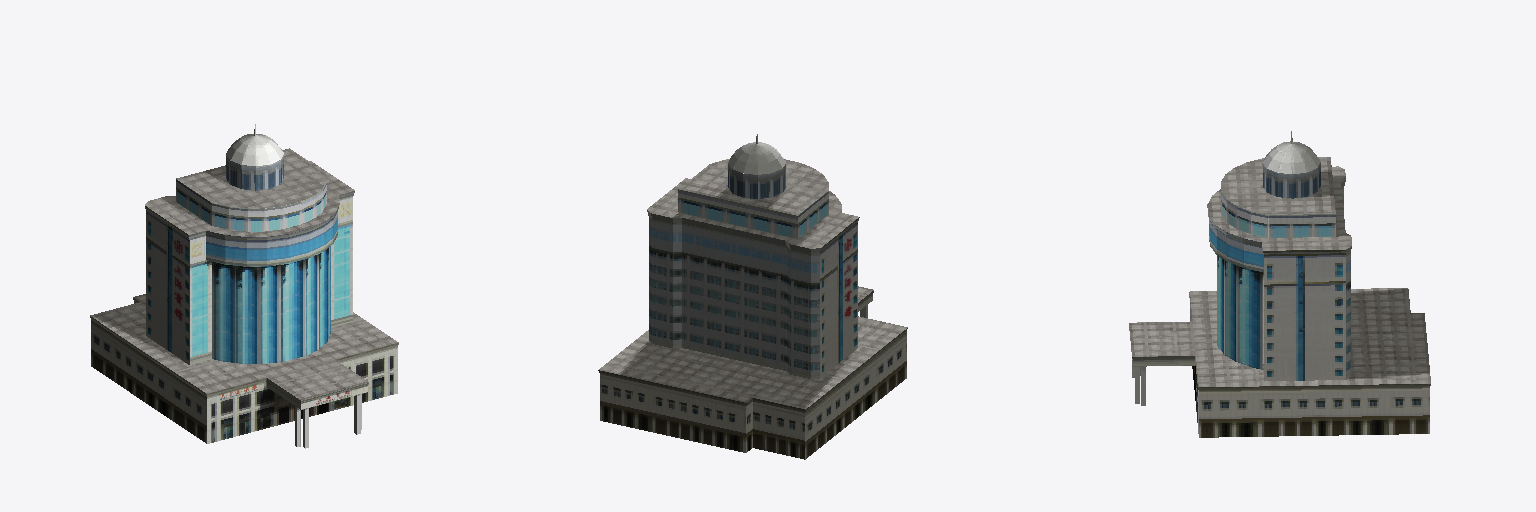
3 renders of one model, left to right at view 1: azimuth 30°, elevation 25°; view 2: azimuth 150°, elevation 25°; view 3: azimuth 270°, elevation 25°, orthographic.
Visible parts, largest first — view 1: Material__342; view 2: Material__342; view 3: Material__342.
Boxes of the visible parts, box(x1,y1,x2,y2) form: Material__342: box(90, 124, 398, 448); Material__342: box(598, 134, 907, 459); Material__342: box(1129, 131, 1430, 437).
Bounding box in the file's own units: 44.53 × 55.24 × 57.14.
Materials: 1 (1 with a texture image).